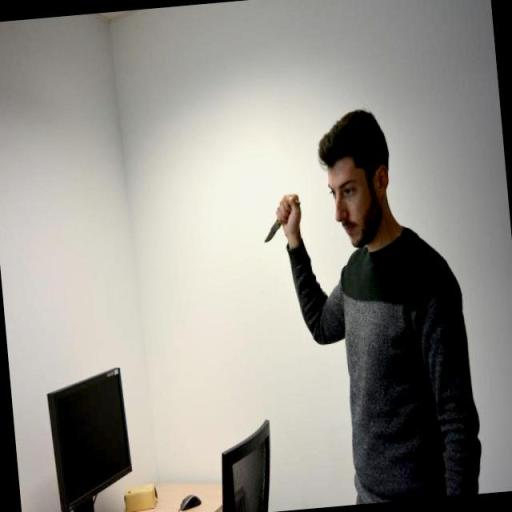knife: (256, 197, 304, 246)
